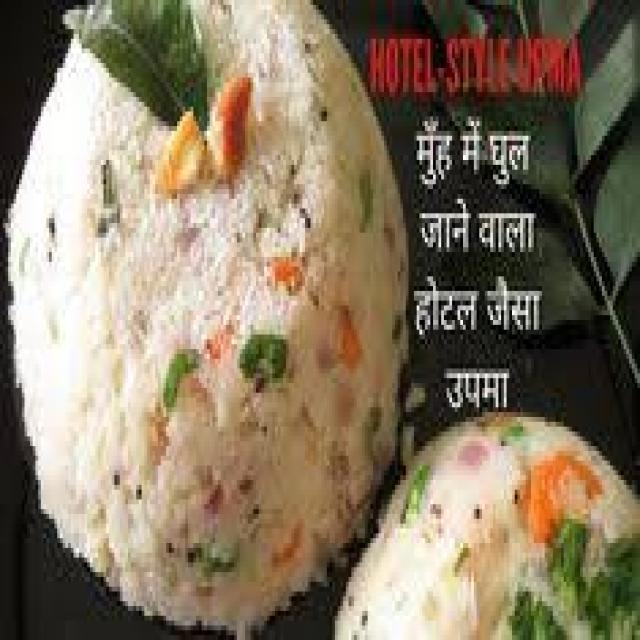UPMA: (3, 0, 403, 630)
